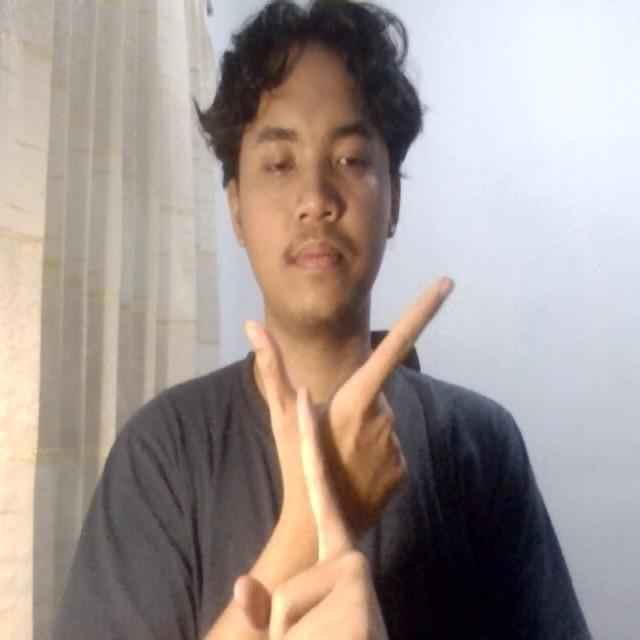No: (195, 260, 472, 627)
